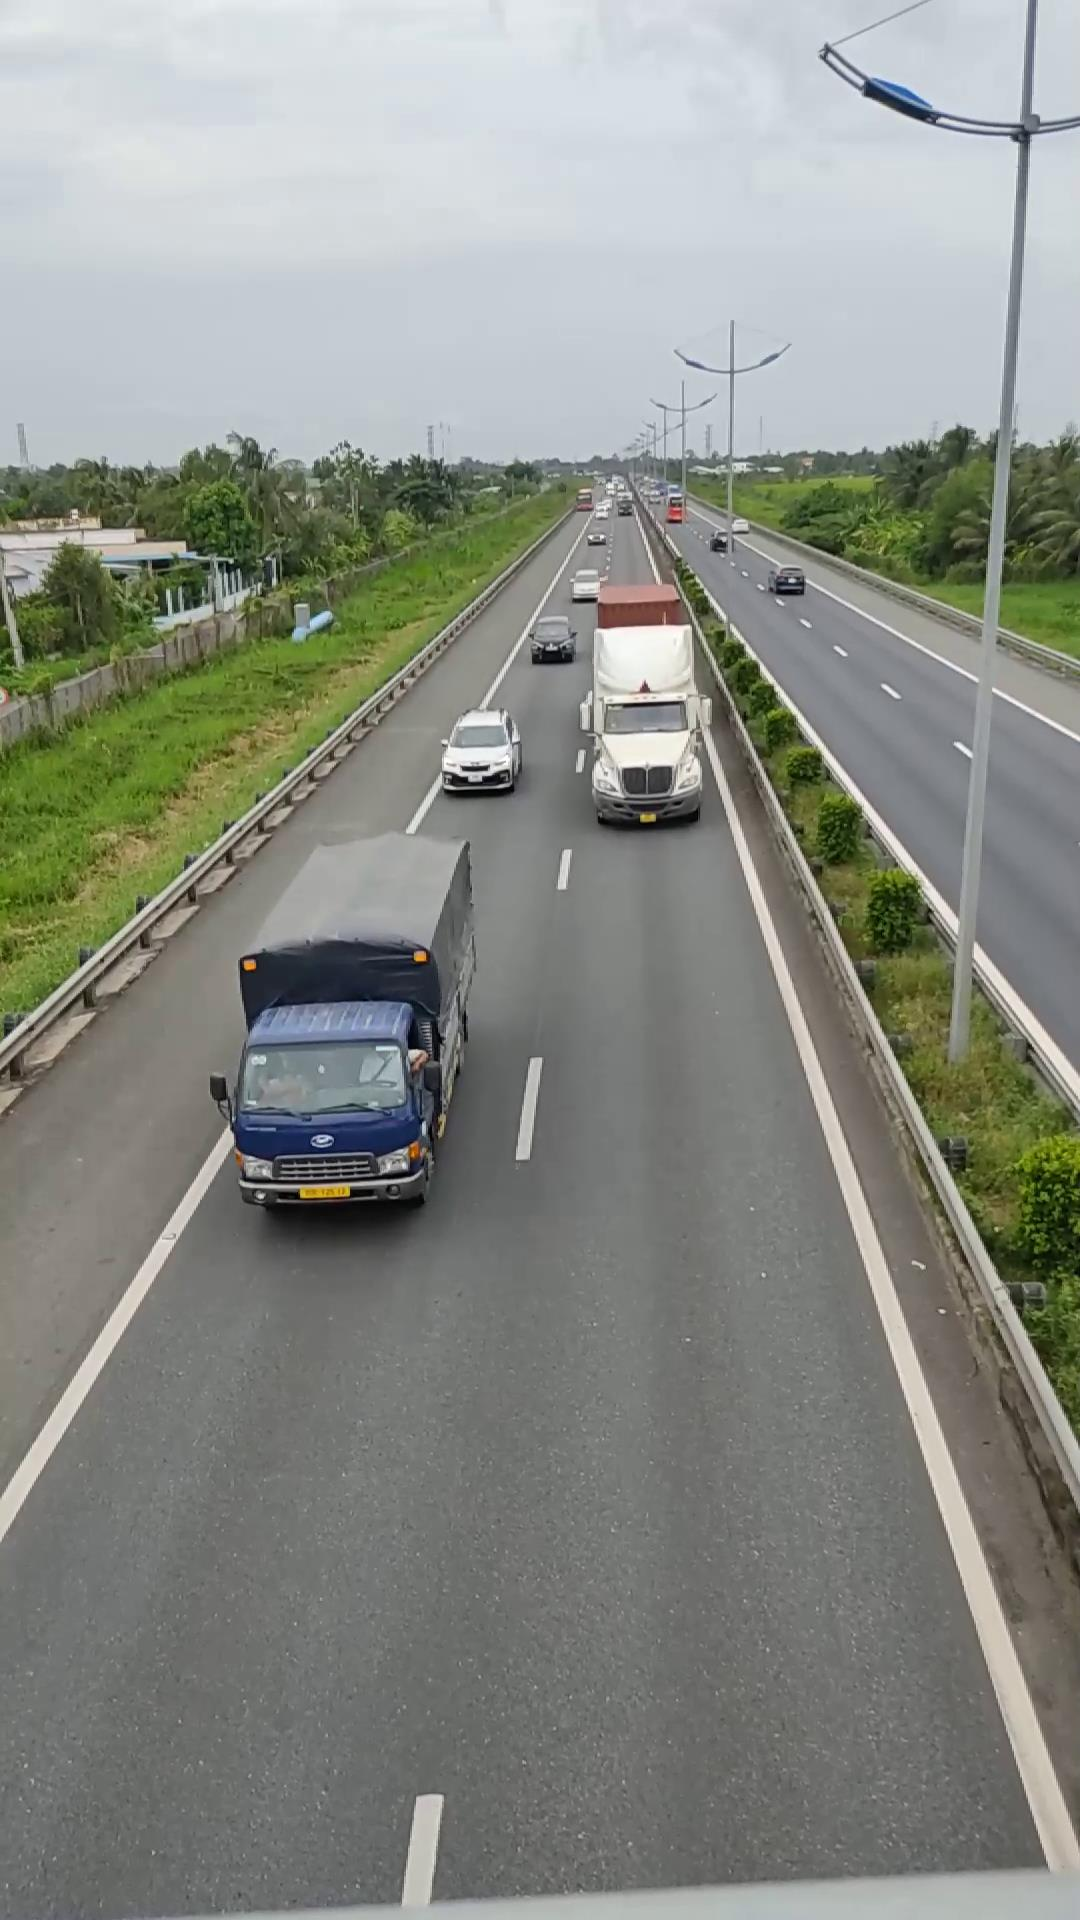car: (439, 708, 524, 793)
container: (575, 570, 715, 819)
truck: (222, 825, 480, 1211)
